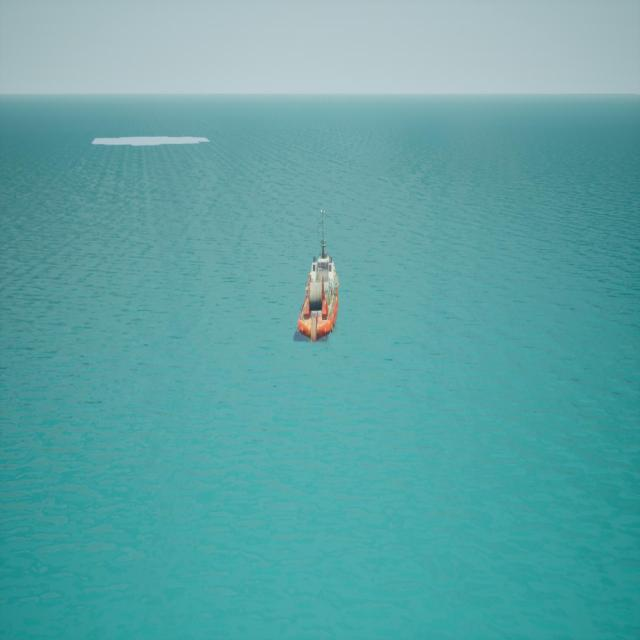tug boat: (297, 211, 340, 346)
